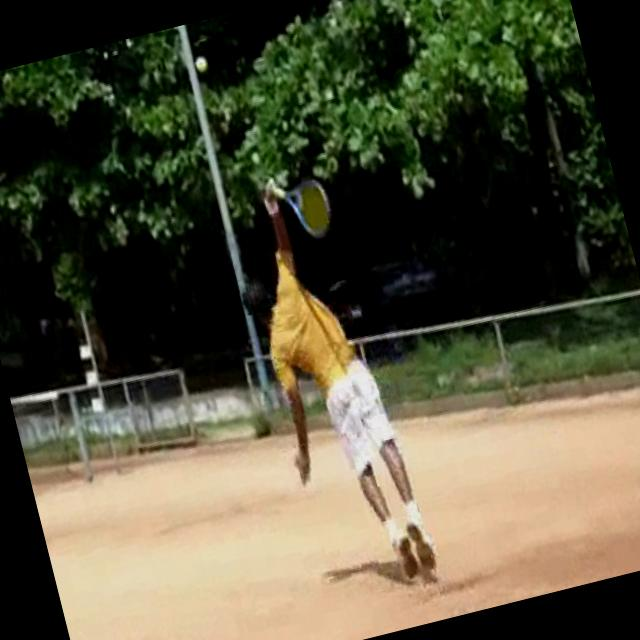Vehicle: (314, 238, 496, 355)
